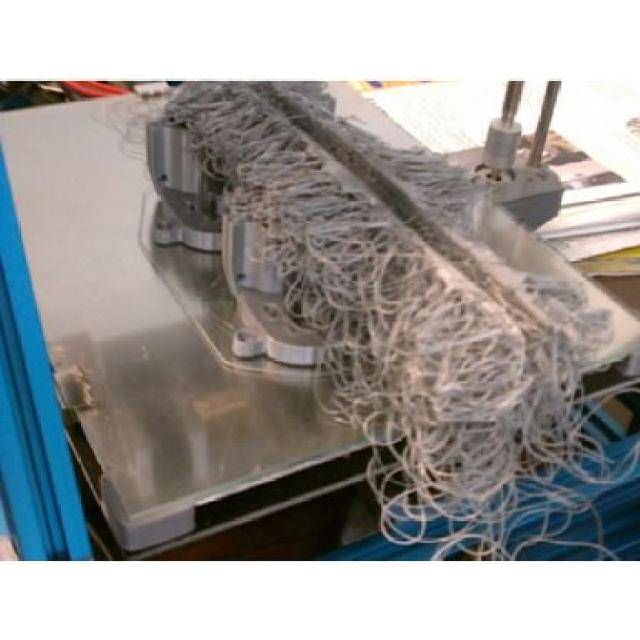spaghetti: (145, 80, 640, 563)
